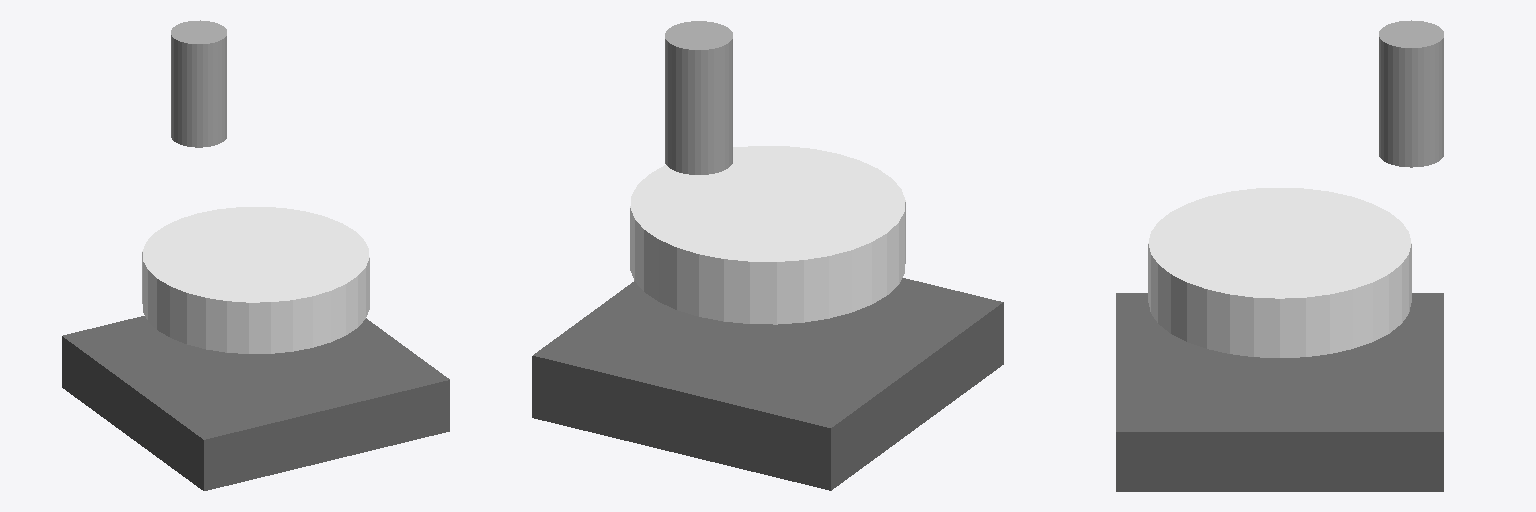
robot.urdf — washbasin:
<?xml version="1.0" encoding="utf-8"?>
<robot name="washbasin">
    <!-- Base Link -->
    <link name="base_link">
        <inertial>
            <origin xyz="0 0 0" rpy="0 0 0"/>
            <mass value="1.0"/>
            <inertia ixx="0.1" ixy="0.0" ixz="0.0" iyy="0.1" iyz="0.0" izz="0.1"/>
        </inertial>
        <visual>
            <origin xyz="0 0 0" rpy="0 0 0"/>
            <geometry>
                <box size="0.5 0.5 0.1"/>
            </geometry>
            <material name="gray">
                <color rgba="0.5 0.5 0.5 1.0"/>
            </material>
        </visual>
        <collision>
            <origin xyz="0 0 0" rpy="0 0 0"/>
            <geometry>
                <box size="0.5 0.5 0.1"/>
            </geometry>
        </collision>
    </link>

    <!-- Basin Bowl -->
    <link name="basin_bowl">
        <inertial>
            <origin xyz="0 0 0.1" rpy="0 0 0"/>
            <mass value="0.5"/>
            <inertia ixx="0.05" ixy="0.0" ixz="0.0" iyy="0.05" iyz="0.0" izz="0.05"/>
        </inertial>
        <visual>
            <origin xyz="0 0 0.1" rpy="0 0 0"/>
            <geometry>
                <cylinder radius="0.2" length="0.1"/>
            </geometry>
            <material name="white">
                <color rgba="1.0 1.0 1.0 1.0"/>
            </material>
        </visual>
        <collision>
            <origin xyz="0 0 0.1" rpy="0 0 0"/>
            <geometry>
                <cylinder radius="0.2" length="0.1"/>
            </geometry>
        </collision>
    </link>

    <!-- Faucet -->
    <link name="faucet">
        <inertial>
            <origin xyz="0 0.2 0.2" rpy="0 0 0"/>
            <mass value="0.1"/>
            <inertia ixx="0.01" ixy="0.0" ixz="0.0" iyy="0.01" iyz="0.0" izz="0.01"/>
        </inertial>
        <visual>
            <origin xyz="0 0.2 0.2" rpy="0 0 0"/>
            <geometry>
                <cylinder radius="0.05" length="0.2"/>
            </geometry>
            <material name="silver">
                <color rgba="0.75 0.75 0.75 1.0"/>
            </material>
        </visual>
        <collision>
            <origin xyz="0 0.2 0.2" rpy="0 0 0"/>
            <geometry>
                <cylinder radius="0.05" length="0.2"/>
            </geometry>
        </collision>
    </link>

    <!-- Joints -->
    <joint name="base_to_basin" type="fixed">
        <parent link="base_link"/>
        <child link="basin_bowl"/>
        <origin xyz="0 0 0.1" rpy="0 0 0"/>
    </joint>

    <joint name="basin_to_faucet" type="fixed">
        <parent link="basin_bowl"/>
        <child link="faucet"/>
        <origin xyz="0 0 0.2" rpy="0 0 0"/>
    </joint>
</robot>

--- Render facts (derived) ---
The picture shows the robot from 3 angles, left to right: view 1: azimuth 30°, elevation 25°; view 2: azimuth 150°, elevation 25°; view 3: azimuth 270°, elevation 25°; orthographic projection.
Robot: washbasin — 3 links, 2 joints (2 fixed); root link base_link; default pose: every joint at zero.
Links seen in each view (by area): view 1: base_link, basin_bowl, faucet; view 2: base_link, basin_bowl, faucet; view 3: base_link, basin_bowl, faucet.
Boxes of the visible links, box(x1,y1,x2,y2) form: base_link: box(62, 316, 449, 490); basin_bowl: box(142, 207, 369, 353); faucet: box(171, 20, 226, 147); base_link: box(532, 278, 1003, 490); basin_bowl: box(630, 146, 905, 324); faucet: box(665, 21, 732, 174); base_link: box(1116, 293, 1443, 491); basin_bowl: box(1148, 188, 1411, 357); faucet: box(1379, 20, 1443, 167).
Bounding box of the posed robot: 0.5 × 0.5 × 0.65 m (x, y, z).
Geometry: primitives only (box / cylinder / sphere), no mesh files.